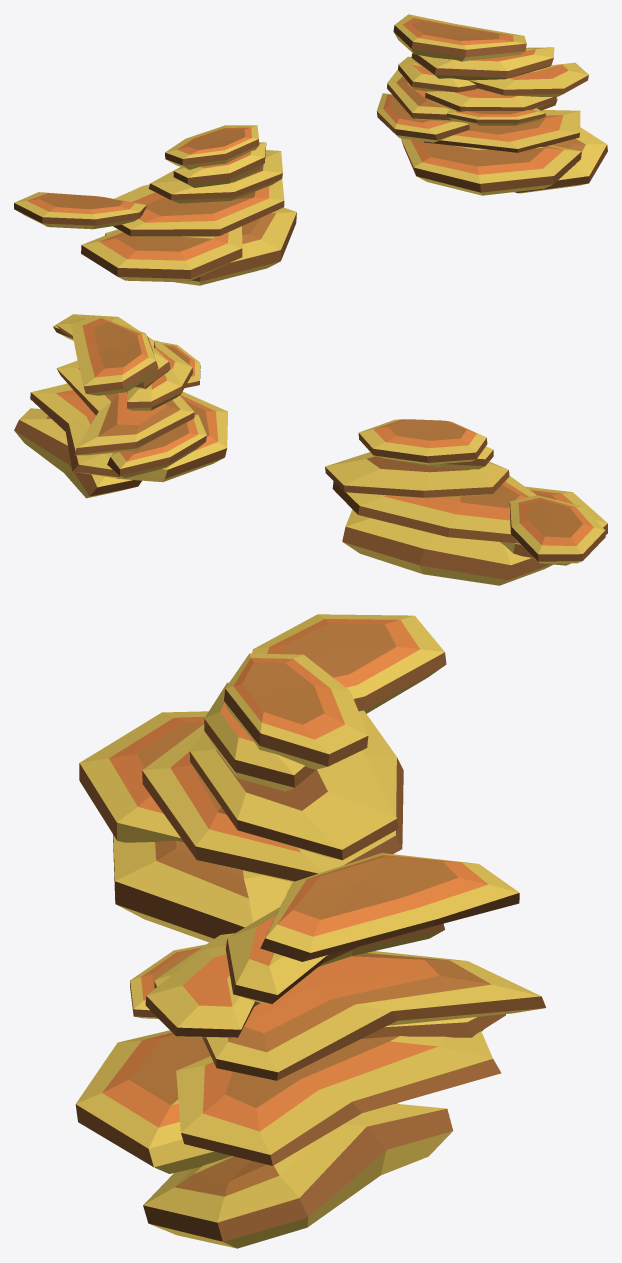
The model's file is Fungi.fbx.
The picture shows the model from 3 angles, top to bottom: view 1: azimuth 30°, elevation 25°; view 2: azimuth 150°, elevation 25°; view 3: azimuth 270°, elevation 25°; orthographic projection. The views are drawn at different scales.
Parts seen in each view (by area): view 1: fungi_2, fungi_1; view 2: fungi_1, fungi_2; view 3: fungi_2, fungi_1.
Boxes of the visible parts, x1,y1,x2,y2 form: fungi_2: (376, 14, 607, 195); fungi_1: (14, 125, 296, 285); fungi_1: (325, 419, 607, 585); fungi_2: (14, 314, 227, 498); fungi_2: (75, 853, 545, 1248); fungi_1: (79, 614, 446, 942).
Size of the model in its own units: 4.39 by 1.09 by 1.64.
